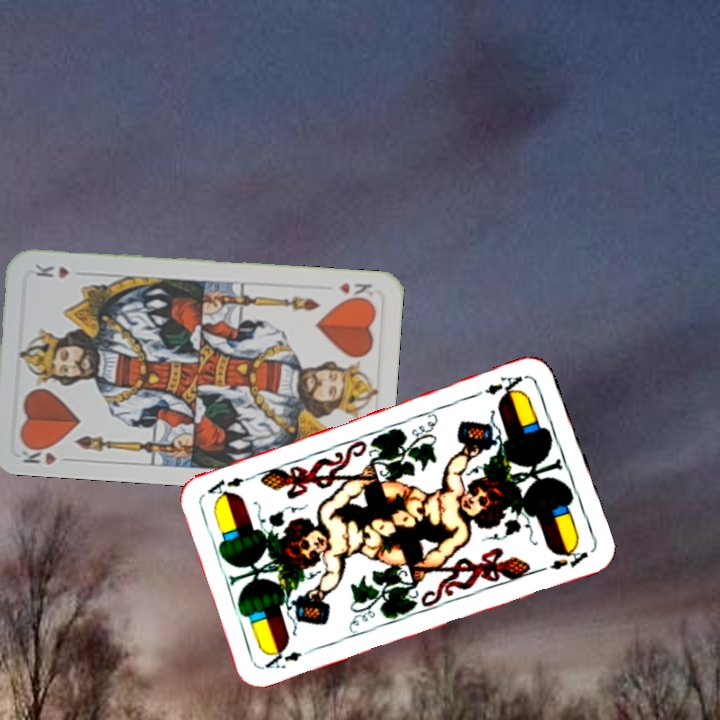EA: (261, 642, 317, 672), (481, 371, 530, 401)
HK: (16, 440, 75, 468), (335, 278, 375, 304)
